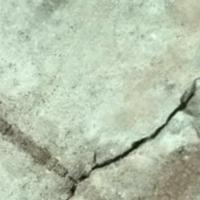crack: (42, 81, 194, 199)
